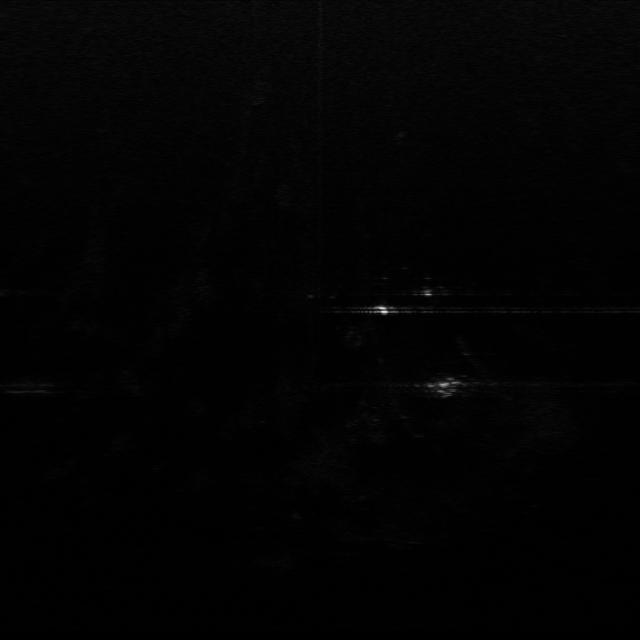rov: (423, 376, 467, 400)
